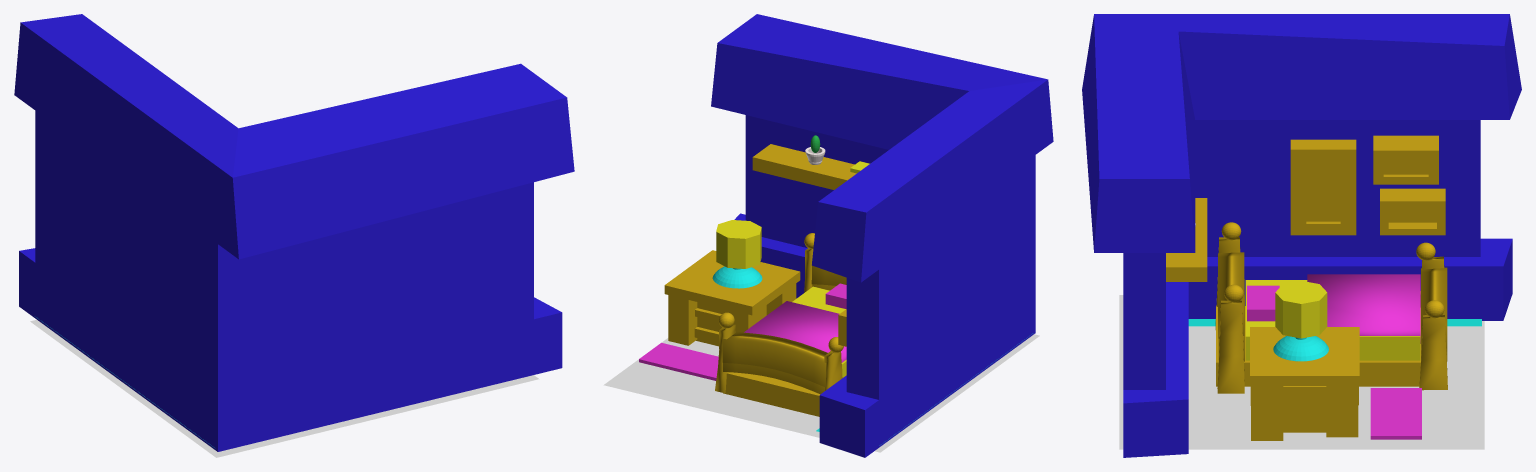
Rendered from room.glb.
3 views of the same model, side by side, from view 1: azimuth 30°, elevation 25°; view 2: azimuth 150°, elevation 25°; view 3: azimuth 270°, elevation 25° (orthographic). The views are drawn at different scales.
Parts seen in each view (by area): view 1: Cube, Plane; view 2: Cube, Plane, Plane.014, Plane.004, Plane.013, Cube.002, Plane.002, Cylinder, Plane.019, Plane.015, Plane.008, Plane.003 (+6 smaller); view 3: Cube, Plane, Cube.001, Plane.013, Plane.014, Cylinder, Plane.019, Plane.010, Plane.007, Plane.002, Plane.008, Cube.002 (+8 smaller).
Part boxes in pixels (left/top/right/bottom): Cube: left=14, top=14, right=574, bottom=451; Plane: left=30, top=319, right=539, bottom=457; Cube: left=711, top=14, right=1053, bottom=457; Plane: left=603, top=334, right=1039, bottom=452; Plane.014: left=664, top=250, right=800, bottom=315; Plane.004: left=722, top=332, right=827, bottom=386; Plane.013: left=744, top=301, right=846, bottom=362; Cube.002: left=752, top=144, right=856, bottom=189; Plane.002: left=723, top=372, right=819, bottom=416; Cylinder: left=716, top=220, right=761, bottom=268; Plane.019: left=639, top=342, right=718, bottom=380; Plane.015: left=668, top=295, right=697, bottom=345; Plane.008: left=694, top=302, right=766, bottom=346; Plane.003: left=723, top=363, right=825, bottom=394; Cube: left=1082, top=14, right=1521, bottom=457; Plane: left=1119, top=295, right=1484, bottom=449; Cube.001: left=1290, top=135, right=1445, bottom=235; Plane.013: left=1307, top=274, right=1420, bottom=343; Plane.014: left=1250, top=327, right=1359, bottom=385; Cylinder: left=1275, top=280, right=1327, bottom=338; Plane.019: left=1370, top=388, right=1421, bottom=439; Plane.010: left=1217, top=300, right=1244, bottom=393; Plane.007: left=1245, top=280, right=1420, bottom=360; Plane.002: left=1216, top=306, right=1420, bottom=386; Plane.008: left=1283, top=386, right=1326, bottom=432; Cube.002: left=1166, top=198, right=1207, bottom=281.
Size of what is drawn, in the model's own units: 2.15 by 1.74 by 2.41.
